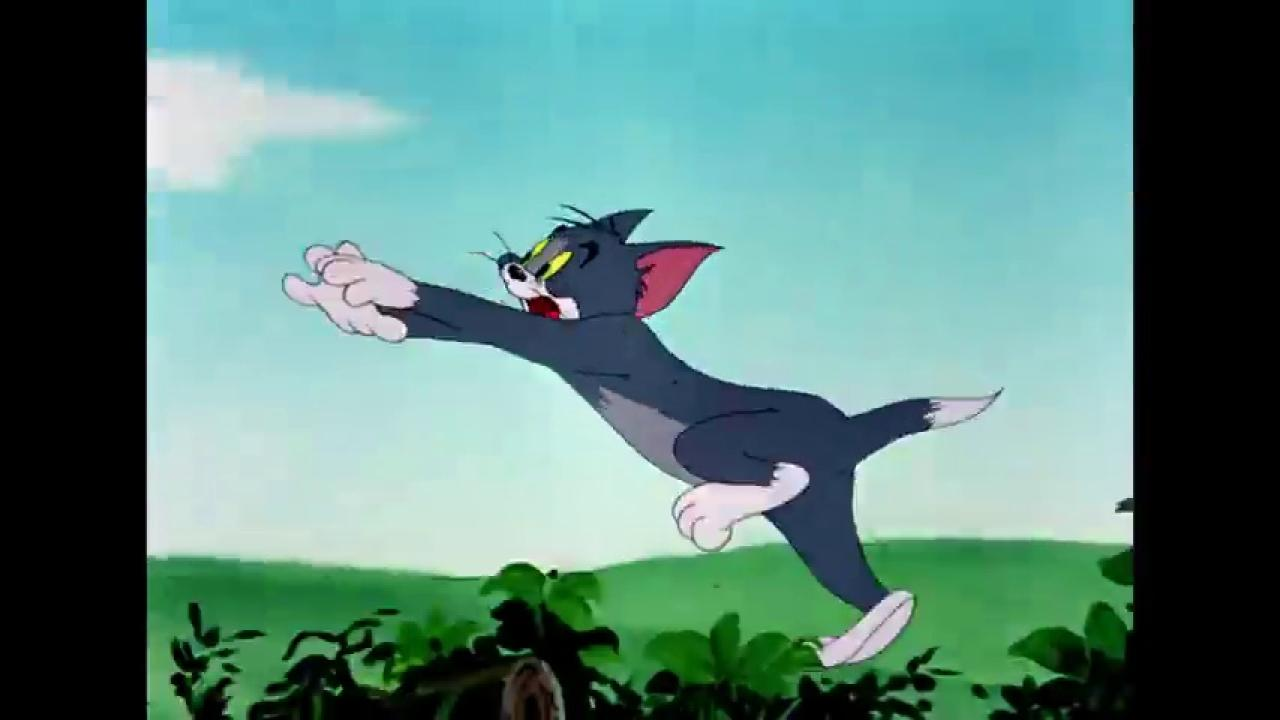Tom: (280, 201, 1006, 672)
